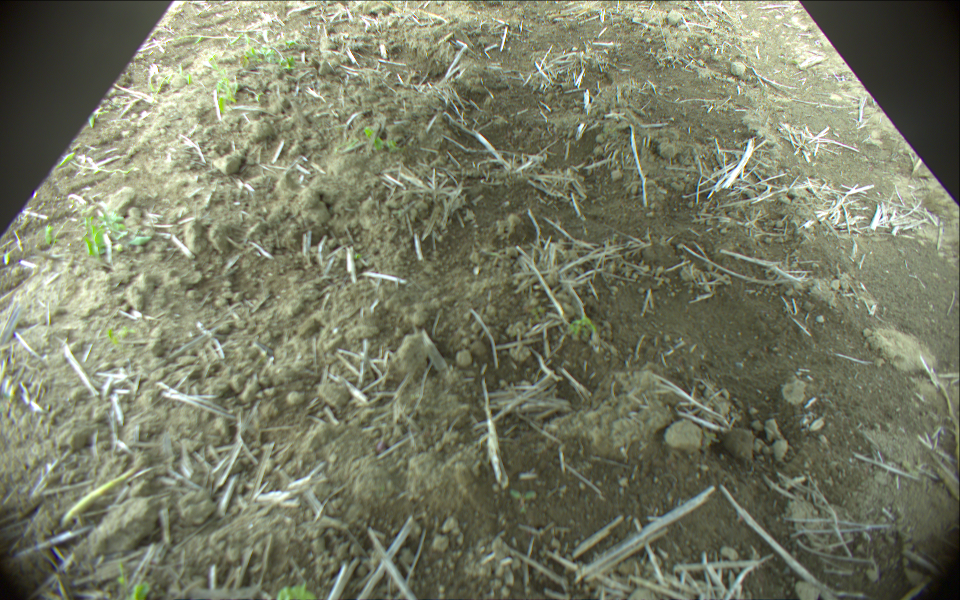aspa: (58, 448, 147, 533)
